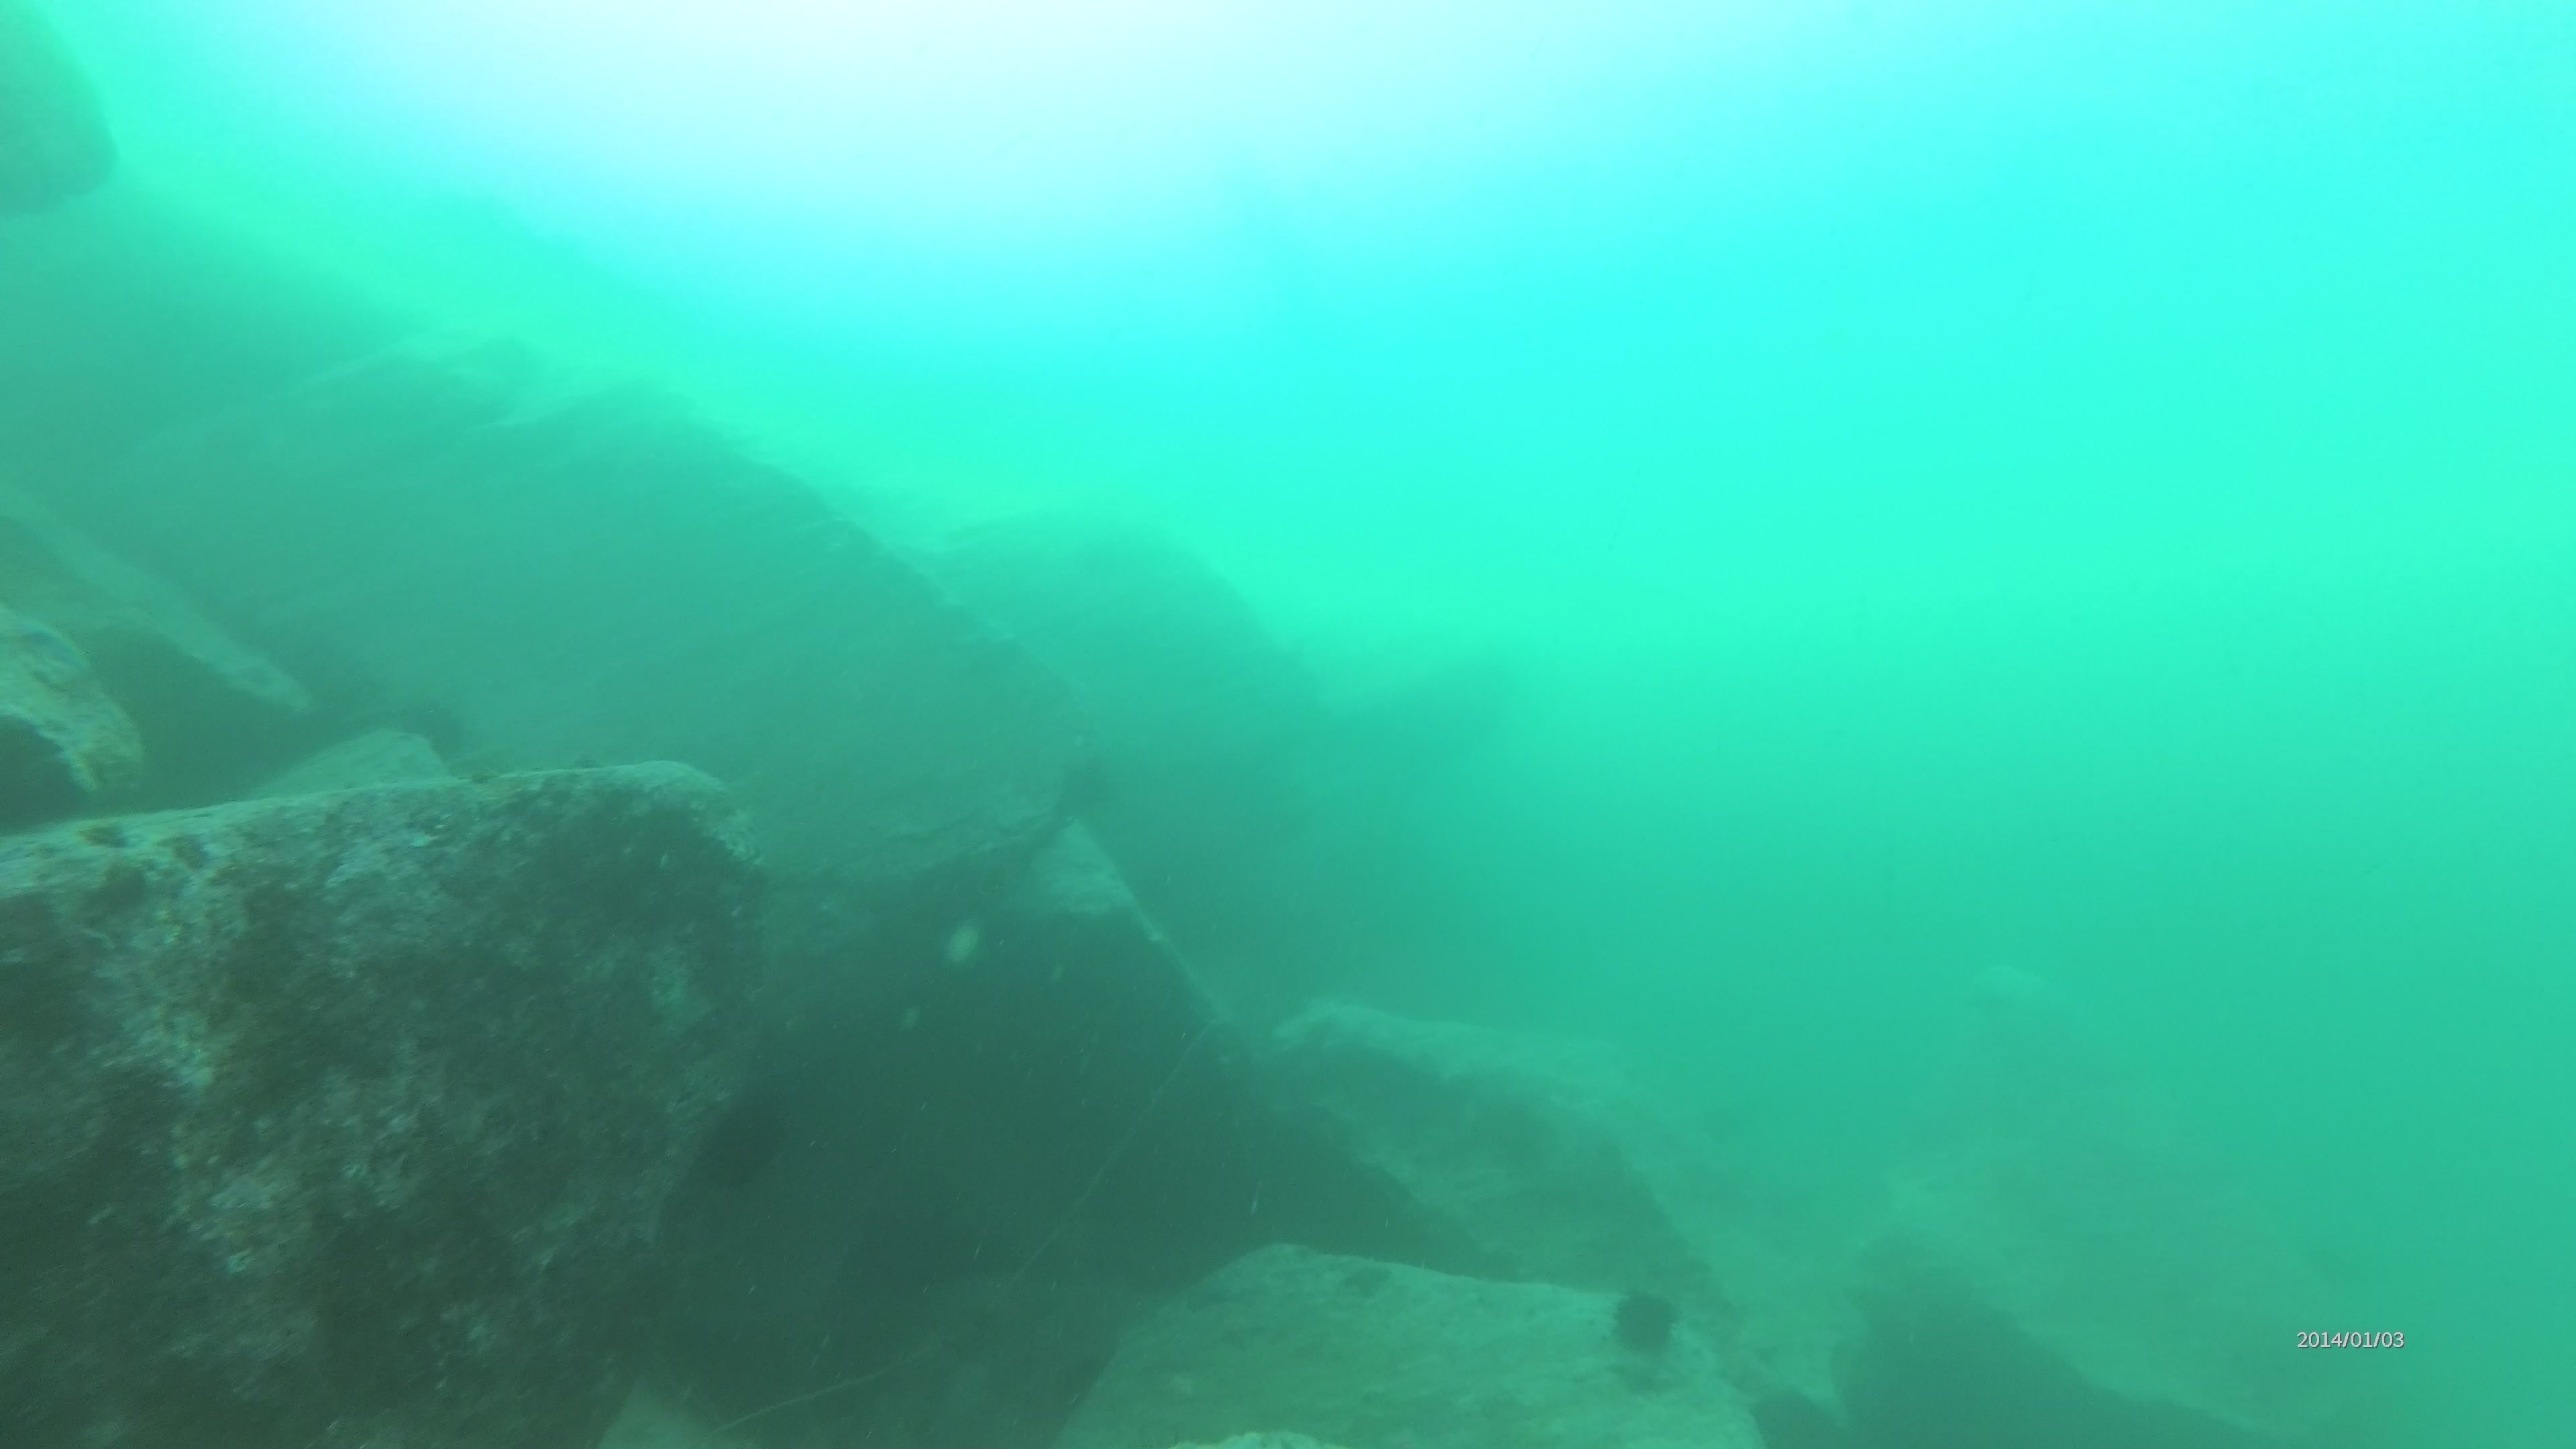echinus: (688, 1086, 796, 1196), (1598, 1277, 1691, 1366)
